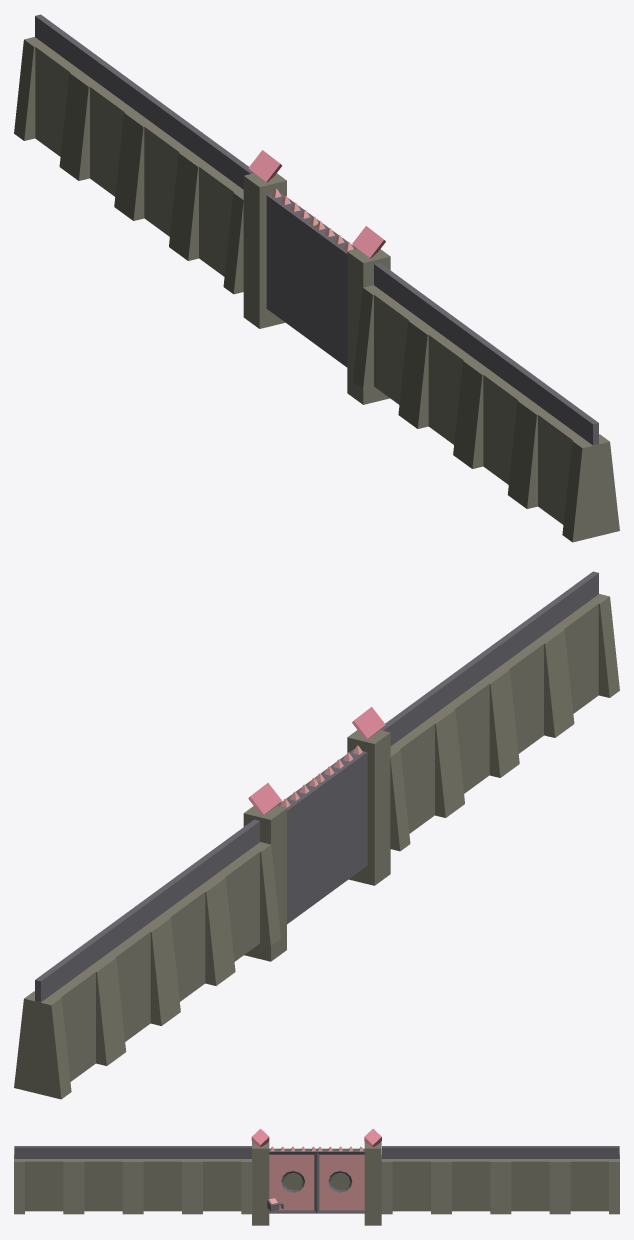
The model's file is NewGate.glb.
3 renders of one model, top to bottom at view 1: azimuth 30°, elevation 25°; view 2: azimuth 150°, elevation 25°; view 3: azimuth 270°, elevation 25°, orthographic. The views are drawn at different scales.
Parts seen in each view (by area): view 1: PAREDE, PORTA.001, PORTA; view 2: PAREDE, PORTA, PORTA.001; view 3: PAREDE, PORTA.001, PORTA.
Boxes of the visible parts, bbox=[...] form: PAREDE: bbox=[14, 14, 619, 542]; PORTA.001: bbox=[266, 188, 323, 340]; PORTA: bbox=[310, 221, 356, 367]; PAREDE: bbox=[14, 571, 619, 1099]; PORTA: bbox=[311, 745, 367, 897]; PORTA.001: bbox=[277, 777, 323, 924]; PAREDE: bbox=[14, 1128, 619, 1225]; PORTA.001: bbox=[317, 1146, 364, 1213]; PORTA: bbox=[269, 1146, 316, 1213].
Bounding box in the file's own units: 2.92 × 8.62 × 51.1.
